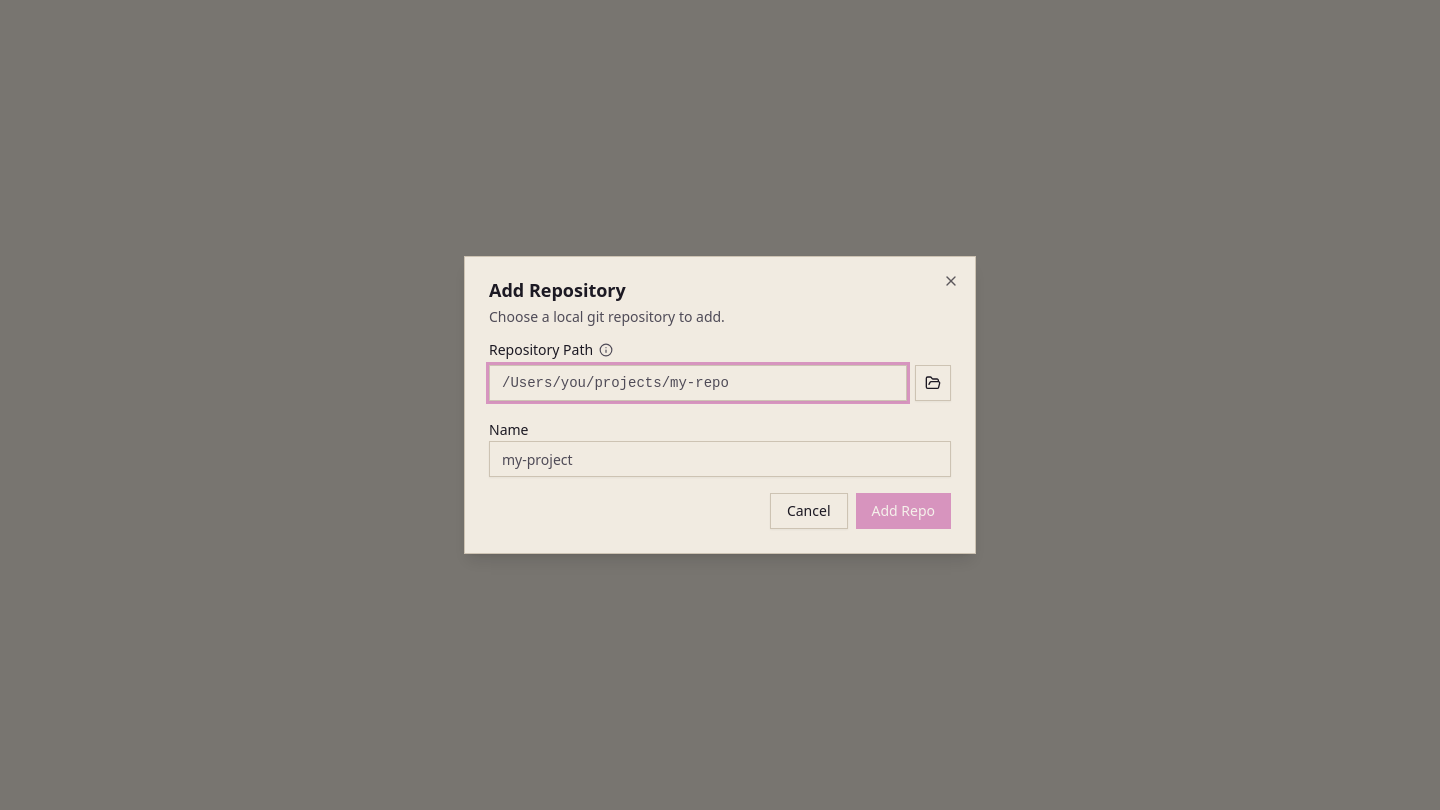
AddRepoDialog › shows error for relative path on submit
The image size is (1440, 810).
Type "relative/path" into the field with placeholder "/Users/you/projects/my-repo" at {"x": 698, "y": 383}, box [489,365,907,401]
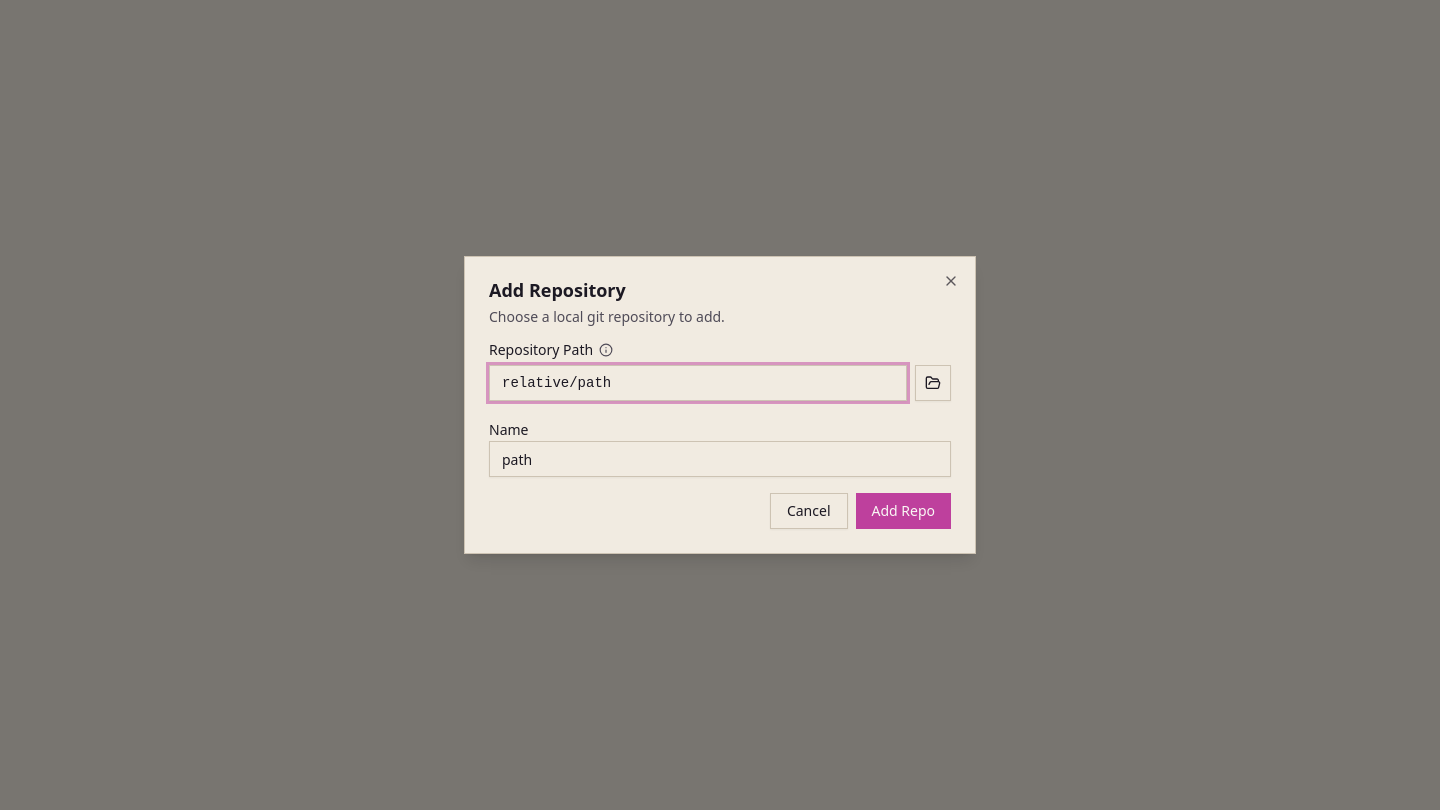
Replace the text in the field with placeholder "my-project" with "test" at {"x": 720, "y": 459}, box [489,441,951,477]
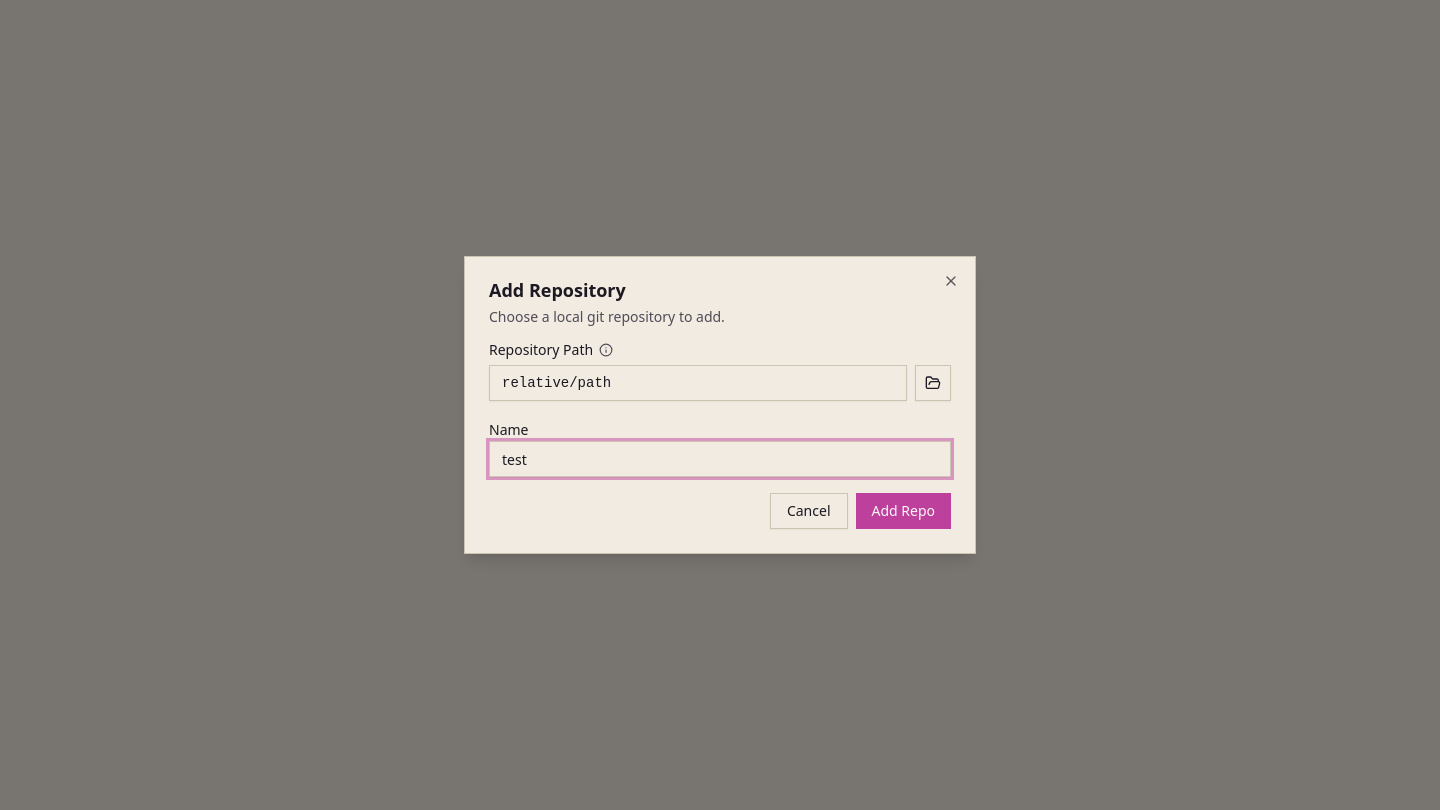
Click the button "Add Repo" at {"x": 903, "y": 511}, box [856,493,951,529]
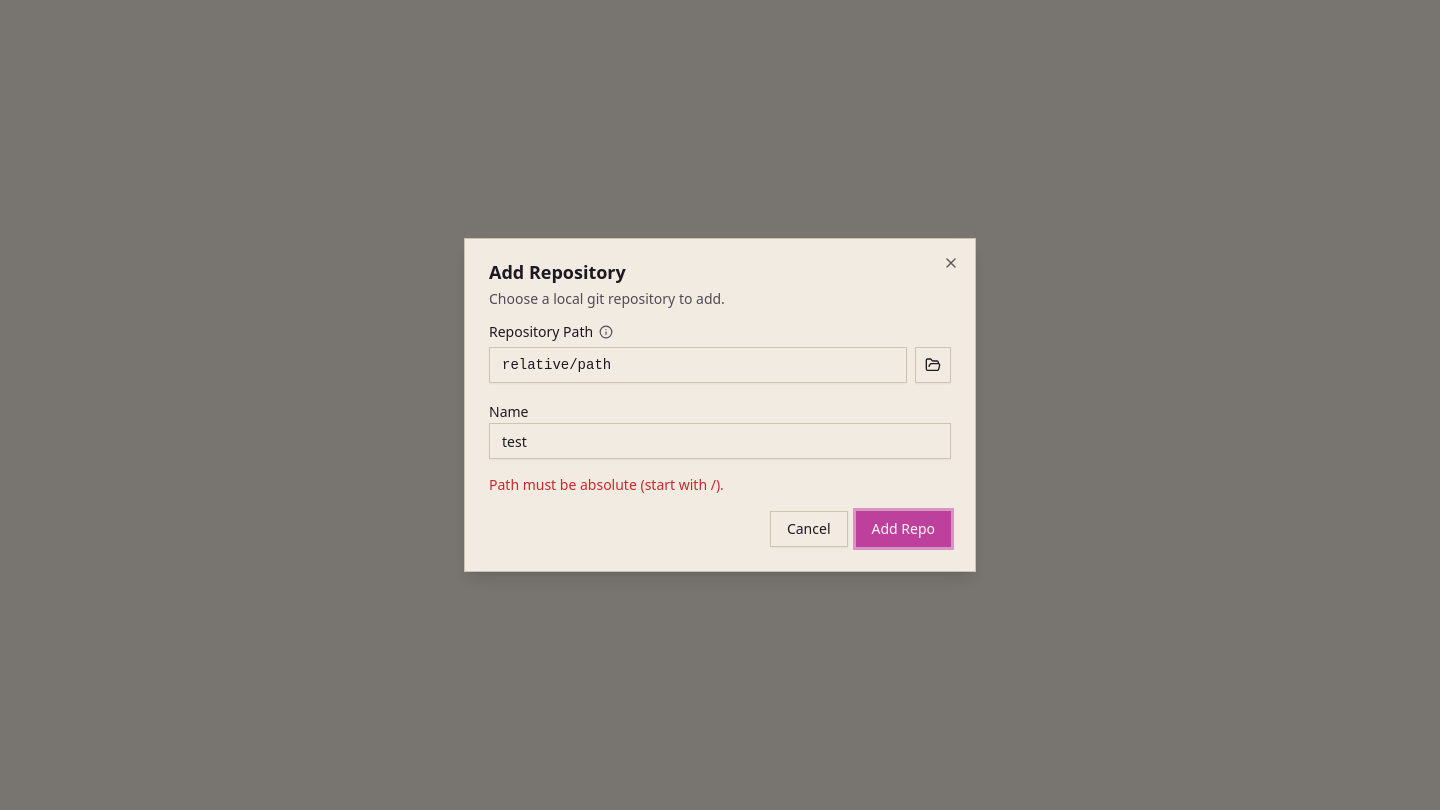
Check: the text "Path must be absolute (start with /)." is shown, box [489,475,724,494]
